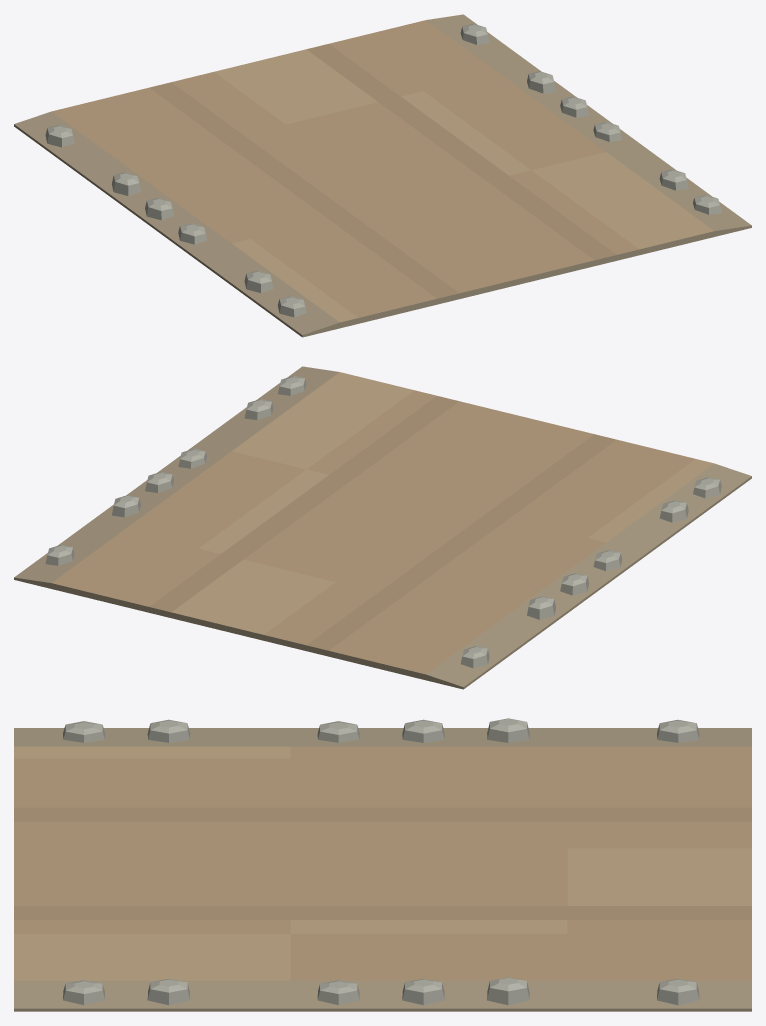
Rendered from road_straight.glb.
The picture shows the model from 3 angles, top to bottom: view 1: azimuth 30°, elevation 25°; view 2: azimuth 150°, elevation 25°; view 3: azimuth 270°, elevation 25°; orthographic projection. The views are drawn at different scales.
Visible parts, largest first — view 1: RoadSurface, ShoulderDetails; view 2: RoadSurface, ShoulderDetails; view 3: RoadSurface, ShoulderDetails.
Part boxes in pixels (x1,y1,x2,y2): RoadSurface: (14, 14, 751, 337); ShoulderDetails: (45, 23, 721, 317); RoadSurface: (14, 366, 751, 689); ShoulderDetails: (45, 375, 721, 668); RoadSurface: (14, 728, 751, 1011); ShoulderDetails: (63, 718, 699, 1005).
Bounding box in the file's own units: 3.6 × 0.117 × 4.
